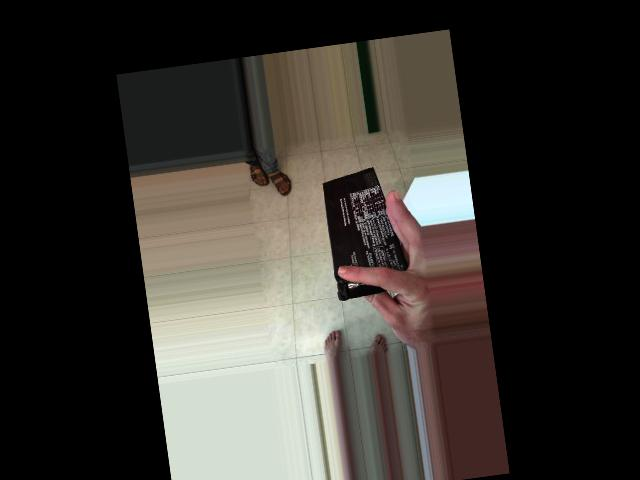chocolate: (252, 201, 395, 291)
